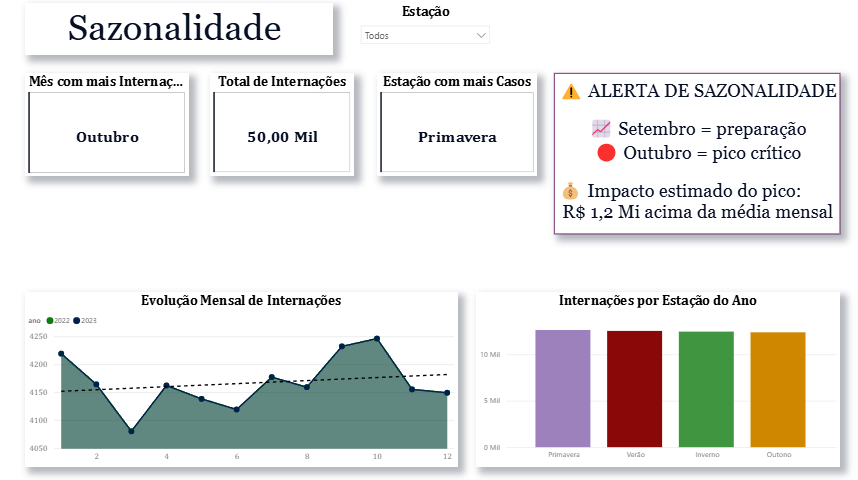

The dashboard page shown, as its layout file describes it:
{"tool":"powerbi","page":{"name":"Sazonalidade","canvas":[1280,720],"ordinal":2},"visuals":[{"type":"textbox","box":[54.1,12.6,450.7,75.7],"z":0},{"type":"areaChart","title":"Evolução Mensal de Internações","fields":{"Category":["mart_saz_agg.mes"],"Series":["mart_sazonalidade.ano"],"Y":["Avg(mart_saz_agg.total_internacoes)"]},"box":[54.1,436.3,632.8,256],"z":1000},{"type":"clusteredColumnChart","title":"Internações por Estação do Ano","fields":{"Category":["mart_saz_agg.estacao"],"Y":["Sum(mart_saz_agg.total_internacoes)"]},"box":[713.9,436.3,501.2,256],"z":2000},{"type":"cardVisual","title":"Mês com mais Internações","fields":{"Data":["mart_analise_uf.Mês Pico"]},"box":[54.1,115.4,239.8,151.4],"z":3000},{"type":"cardVisual","title":"Total de Internações","fields":{"Data":["mart_analise_uf.Total Internações Saz"]},"box":[346.1,115.4,210.9,151.4],"z":4000},{"type":"cardVisual","title":"Estação com mais Casos","fields":{"Data":["mart_analise_uf.Estação Pico"]},"box":[597.1,115.6,234.1,150.7],"z":5000},{"type":"textbox","box":[847.3,13.2,367.3,396.6],"z":6000},{"type":"slicer","title":"Estação","fields":{"Values":["mart_saz_agg.estacao"]},"box":[535.4,12.6,209.1,84.7],"z":7000}]}

Visuals, with their boxes in screenshot pixels (x1, y1, x2, y2), scaled from the page's 1280x720 canvas onto the 858x480 screenshot:
textbox: BBox(36, 8, 338, 59)
"Evolução Mensal de Internações" areaChart: BBox(36, 291, 460, 462)
"Internações por Estação do Ano" clusteredColumnChart: BBox(479, 291, 814, 462)
"Mês com mais Internações" cardVisual: BBox(36, 77, 197, 178)
"Total de Internações" cardVisual: BBox(232, 77, 373, 178)
"Estação com mais Casos" cardVisual: BBox(400, 77, 557, 178)
textbox: BBox(568, 9, 814, 273)
"Estação" slicer: BBox(359, 8, 499, 65)
